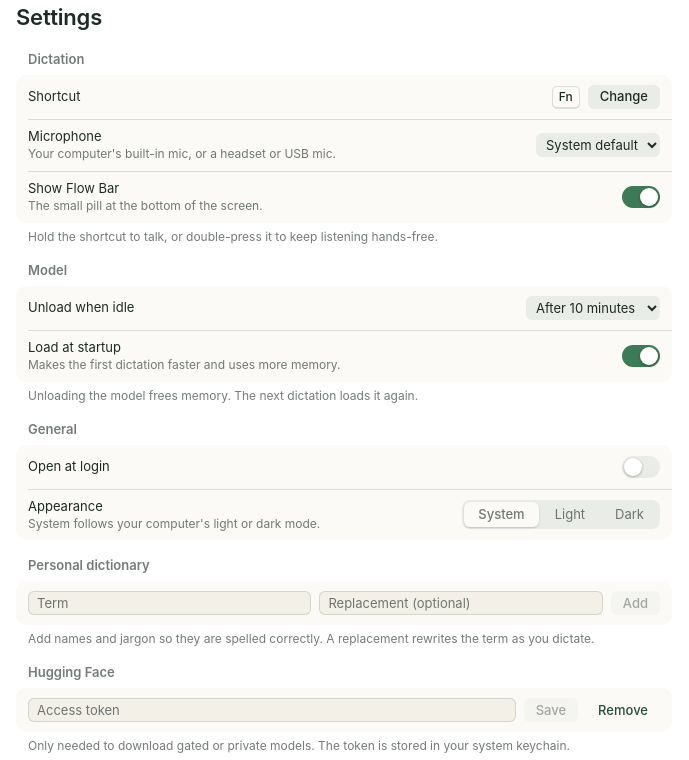
Test: Settings › settings_save_error_reverts
Step 1. Click the button "Change" → (624, 97), box [588,85,660,109]
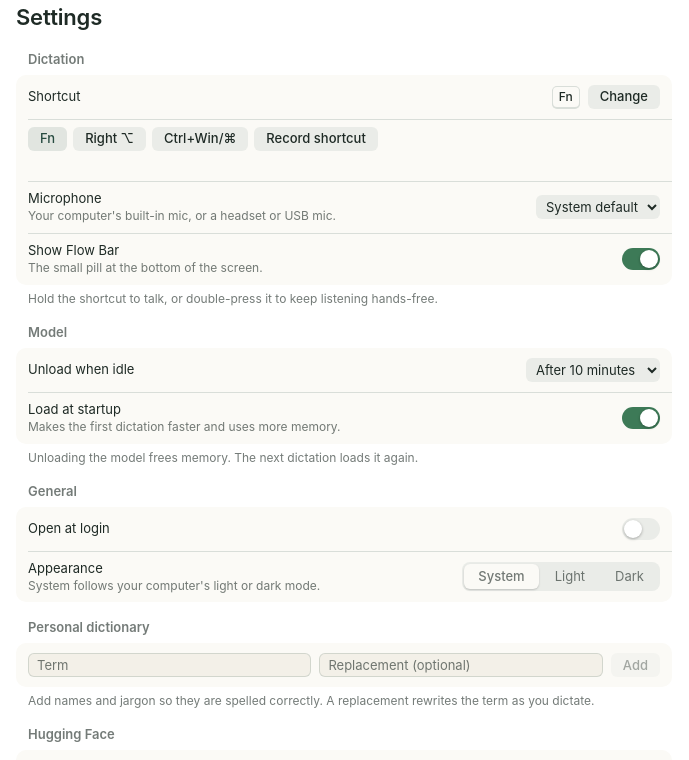
Step 2. Click the button "Right ⌥" → (110, 139), box [73,127,146,151]
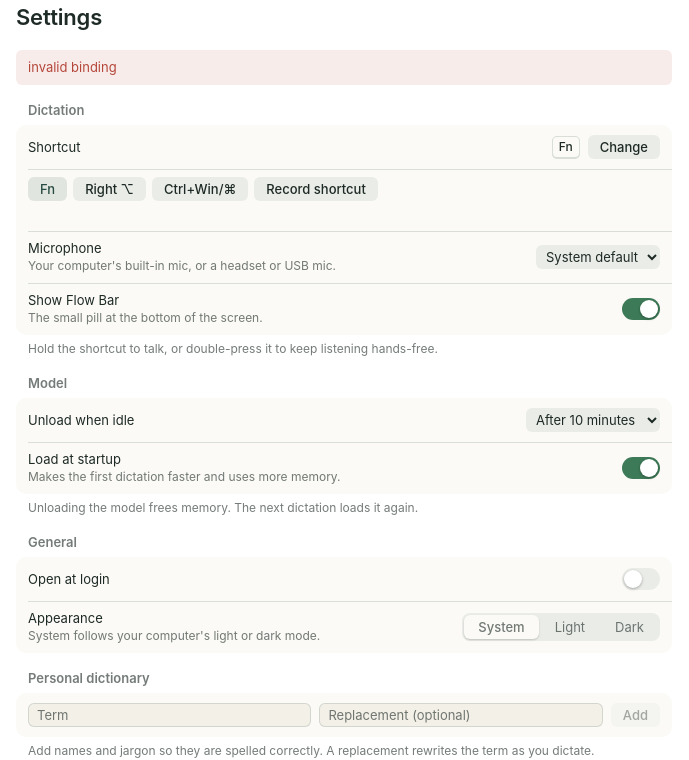
Expected: the element named "Current shortcut" reads "Fn", [559,139,573,154]
Now the message reads "invalid binding", box [28,59,117,75]
